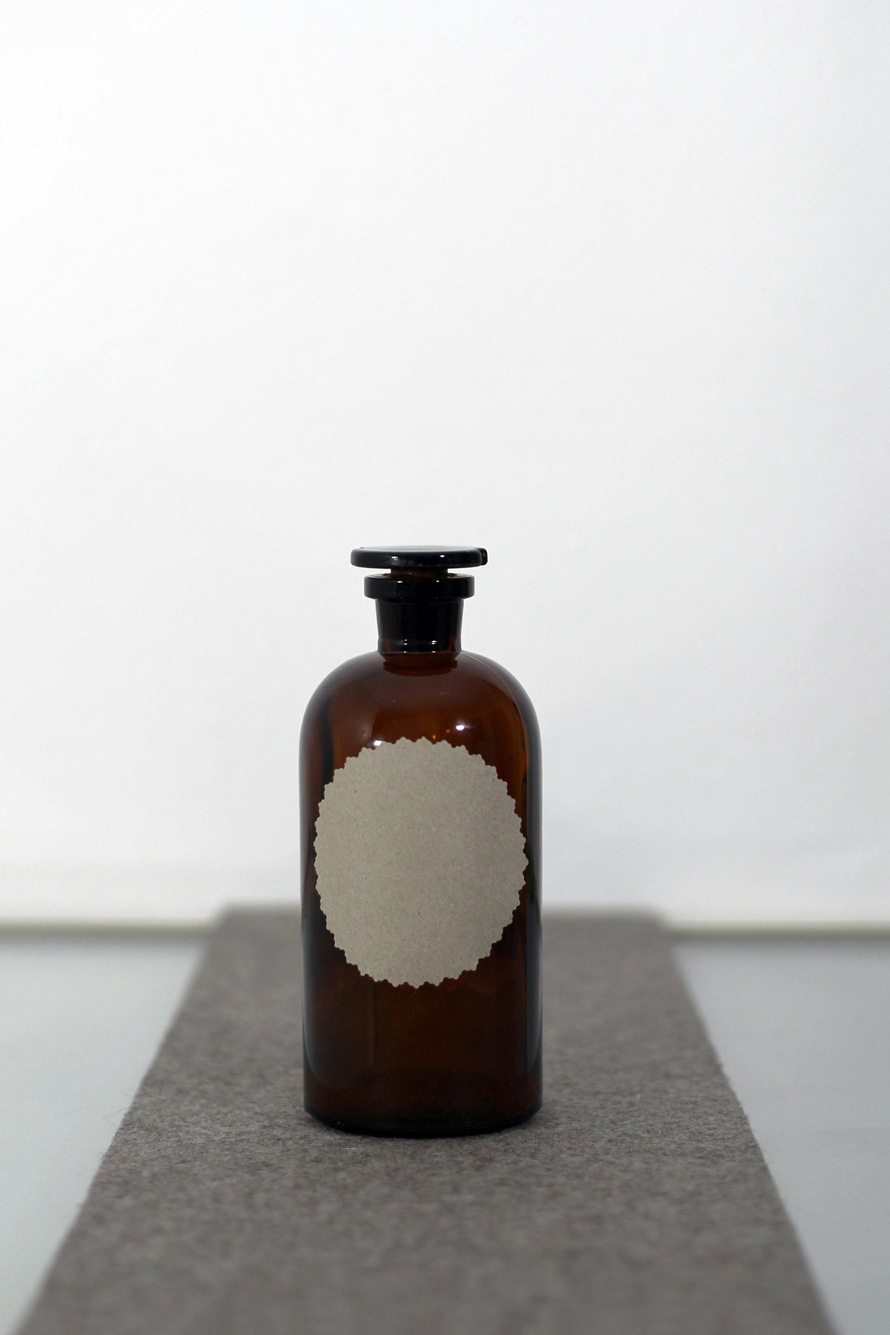Bottle-Detection: (239, 467, 626, 1190)
